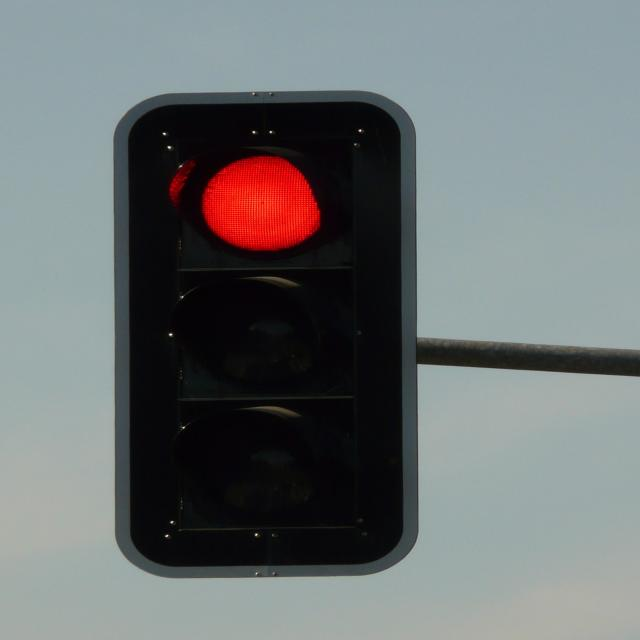red: (150, 116, 367, 292)
